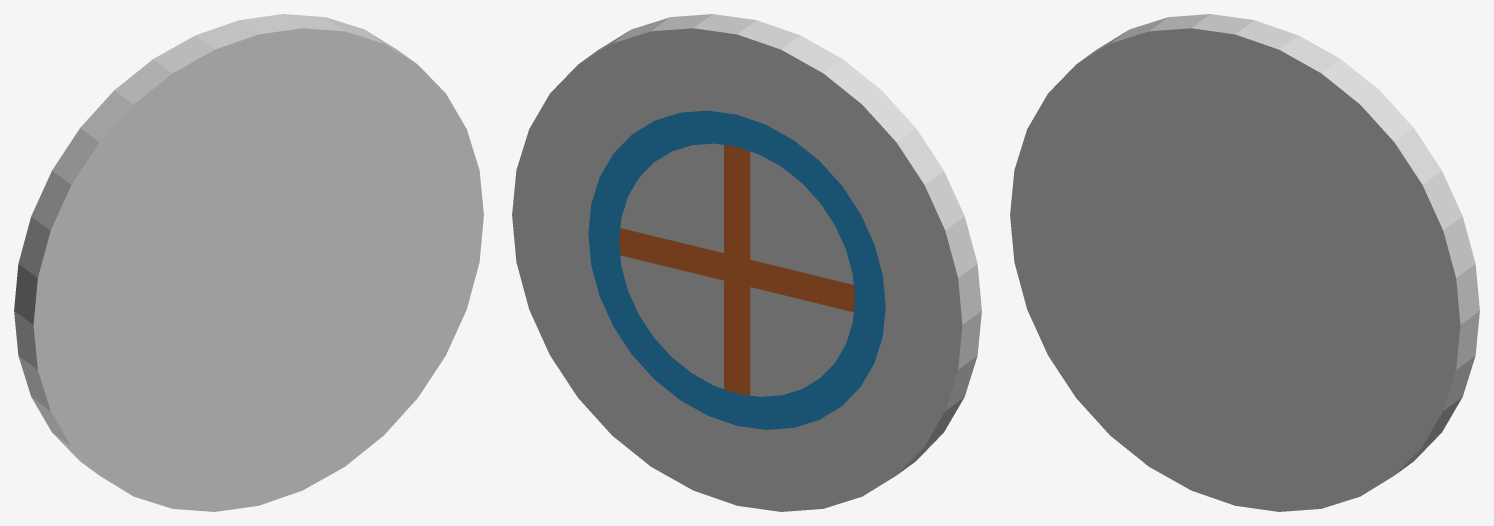
File: Small shooting target.glb
The picture shows the model from 3 angles, left to right: view 1: azimuth 30°, elevation 25°; view 2: azimuth 150°, elevation 25°; view 3: azimuth 330°, elevation 25°; orthographic projection.
Parts seen in each view (by area): view 1: Small shooting target; view 2: Small shooting target, Circle, Target cross.001, Target cross; view 3: Small shooting target.
Part boxes in pixels (x1,y1,x2,y2): Small shooting target: (14,14,483,511); Small shooting target: (512,14,981,511); Circle: (588,110,885,429); Target cross.001: (724,145,750,395); Target cross: (619,228,854,311); Small shooting target: (1010,14,1479,511).
Bounding box in the file's own units: 0.4 × 0.4 × 0.0303.
